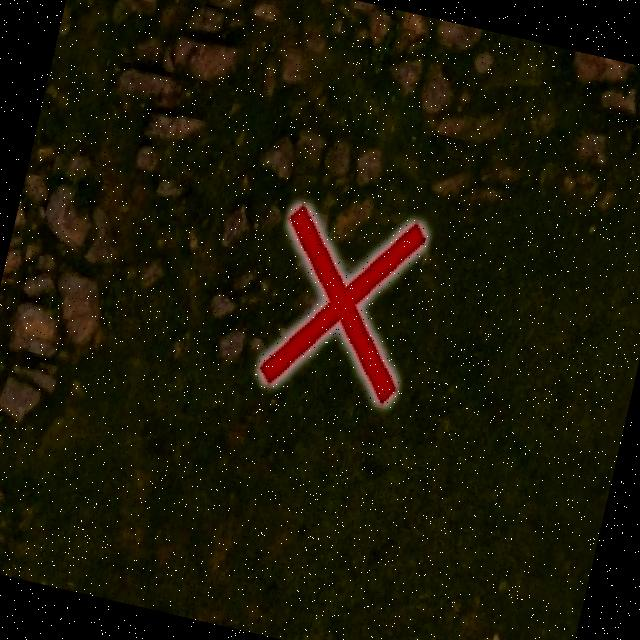x_marker: (252, 195, 430, 408)
